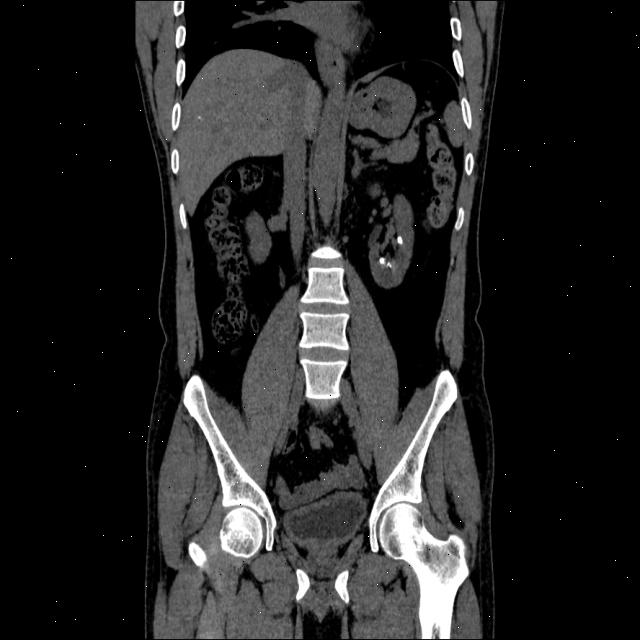kidneystone: (379, 256, 390, 269), (396, 236, 402, 245)
